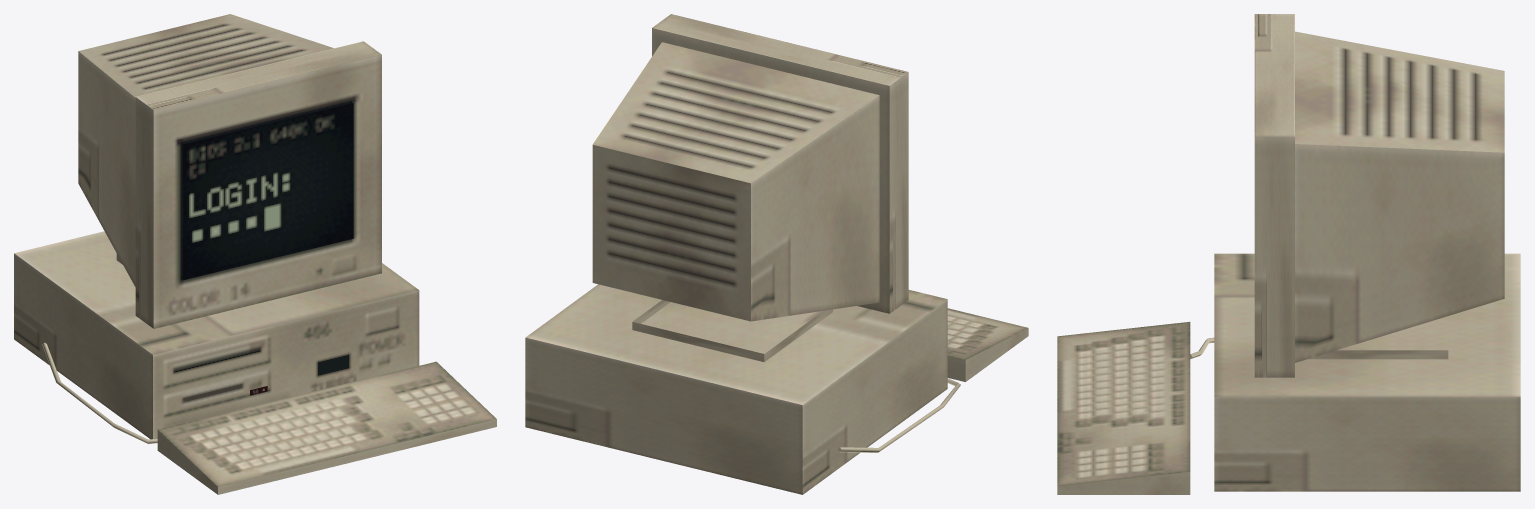
The model's file is computer_crt.obj.
The picture shows the model from 3 angles, left to right: view 1: azimuth 30°, elevation 25°; view 2: azimuth 150°, elevation 25°; view 3: azimuth 270°, elevation 25°; orthographic projection. The views are drawn at different scales.
Visible parts, largest first — view 1: computer_crt; view 2: computer_crt; view 3: computer_crt.
Boxes of the visible parts, x1,y1,x2,y2 form: computer_crt: (14,14,496,494); computer_crt: (525,14,1028,494); computer_crt: (1057,14,1520,494).
Bounding box in the file's own units: 0.4595 × 0.472 × 0.575.
2 materials, 2 textured.
